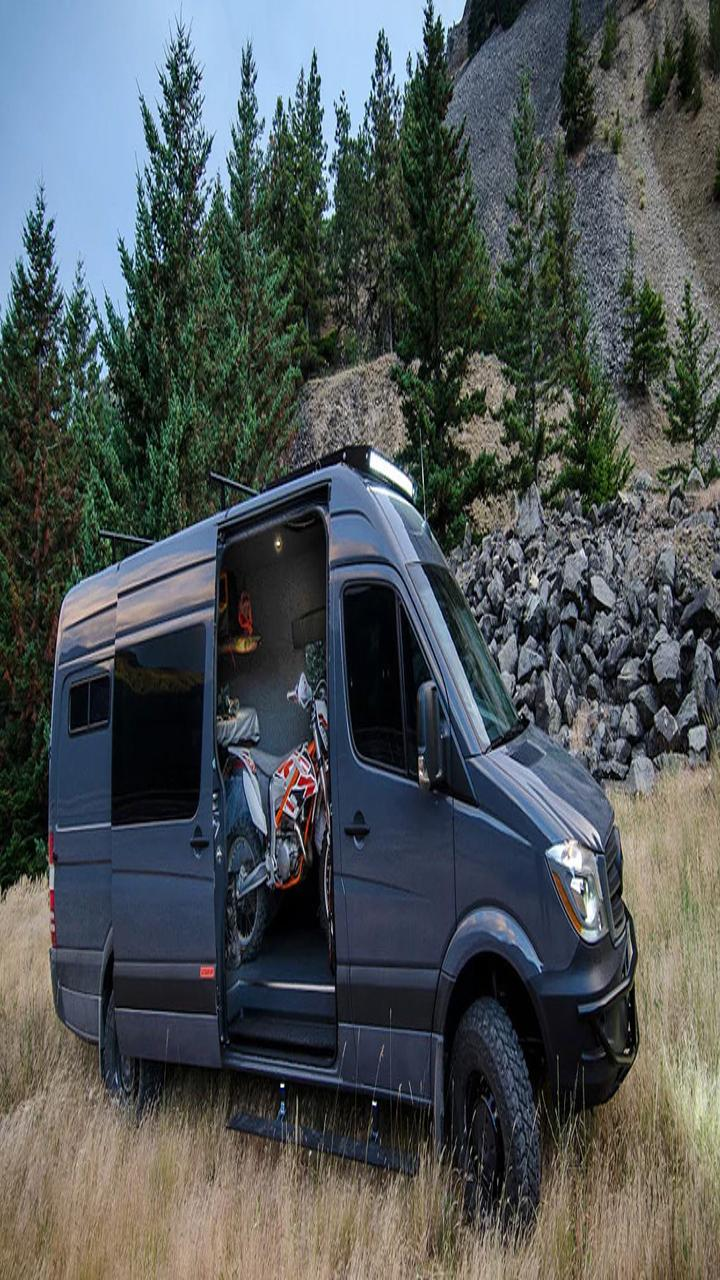vehicle: (42, 457, 638, 1252)
